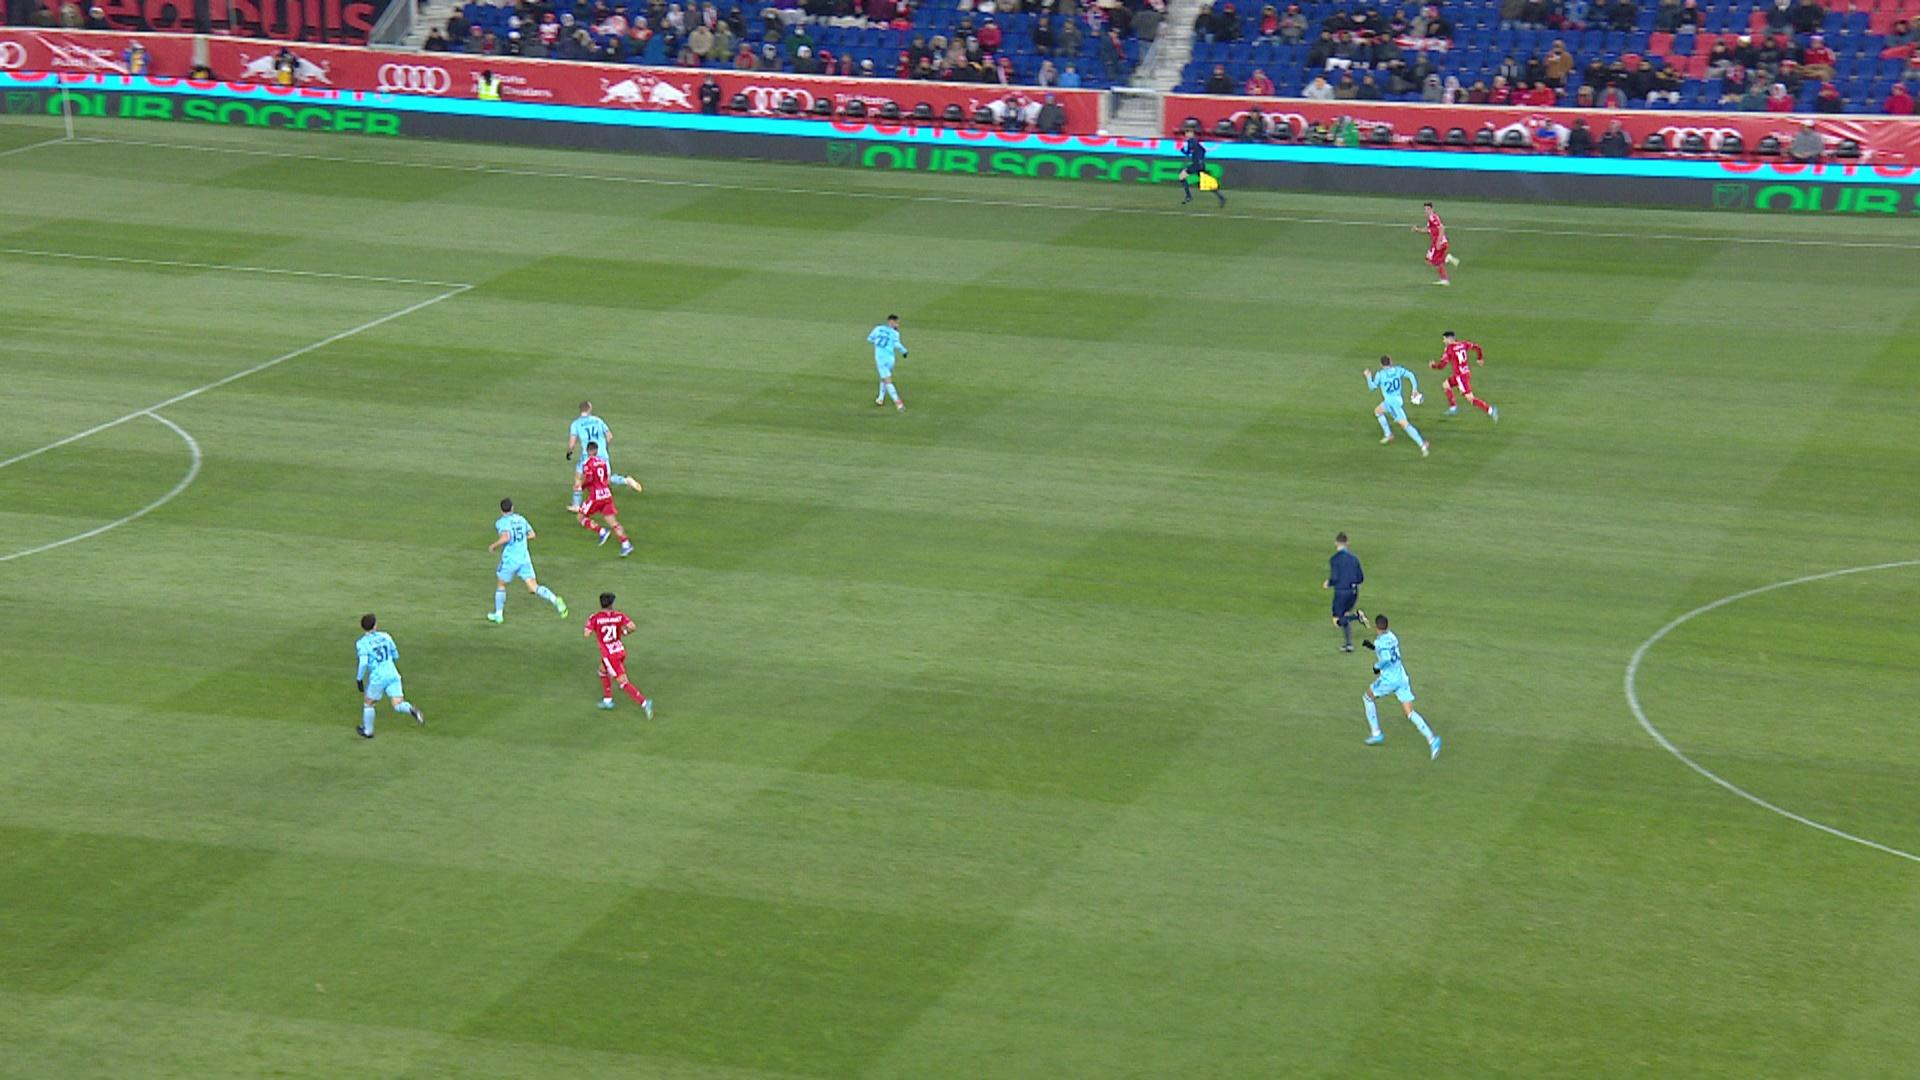football: (1411, 394, 1423, 405)
